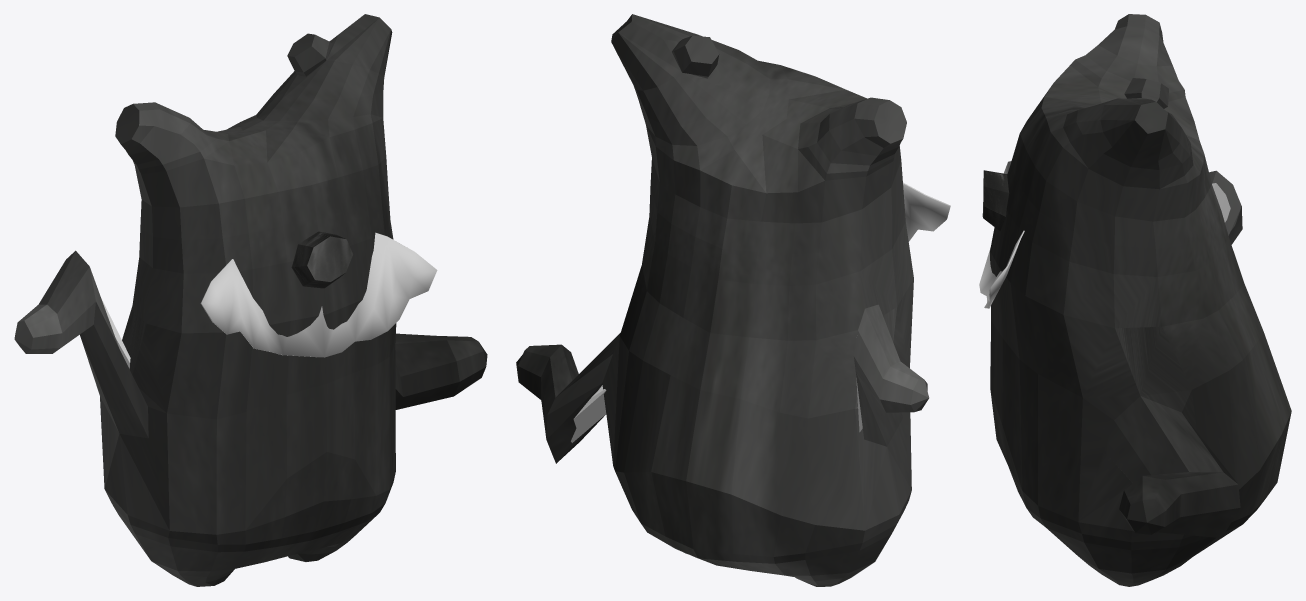
Rendered from frame_0053.obj.
The picture shows the model from 3 angles, left to right: view 1: azimuth 30°, elevation 25°; view 2: azimuth 150°, elevation 25°; view 3: azimuth 270°, elevation 25°; orthographic projection. The views are drawn at different scales.
Visible parts, largest first — view 1: korok, leaf, nose; view 2: korok, leaf; view 3: korok, nose, leaf.
Boxes of the visible parts, box(x1,y1,x2,y2) form: korok: box(14, 14, 487, 586); leaf: box(200, 232, 437, 357); nose: box(291, 231, 352, 288); korok: box(516, 14, 929, 586); leaf: box(903, 182, 950, 241); korok: box(990, 14, 1291, 586); nose: box(982, 170, 1009, 230); leaf: box(979, 161, 1024, 308).
Size of the model in its own units: 1.96 by 2.21 by 1.21.
